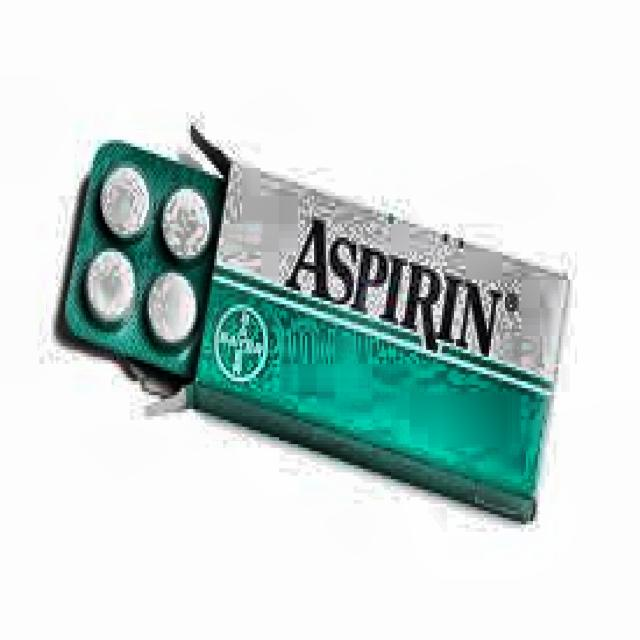Aspirin: (275, 195, 523, 386)
